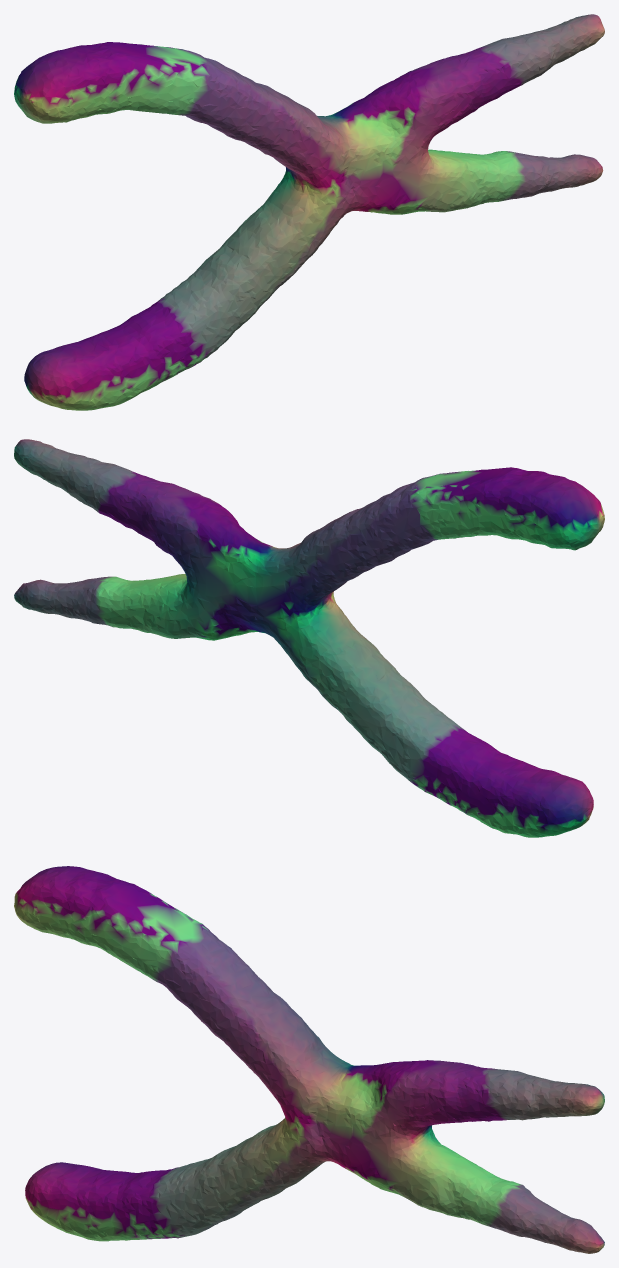
Rendered from pliers-12.off.obj.
3 renders of one model, top to bottom at view 1: azimuth 30°, elevation 25°; view 2: azimuth 150°, elevation 25°; view 3: azimuth 330°, elevation 25°, orthographic.
Size of the model in its own units: 1.59 by 0.9182 by 0.1755.
